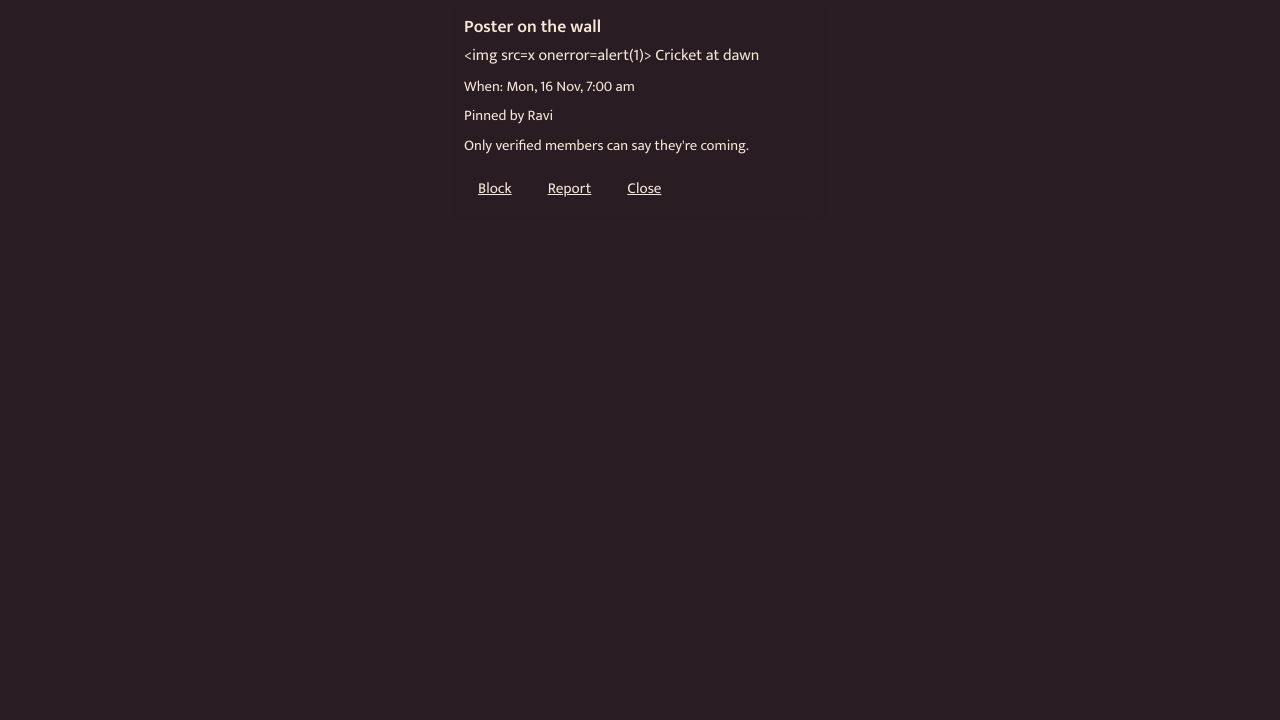
it: PosterCard › blocks first, then opens the report about the poster
The image size is (1280, 720).
Later steps or results of the test are not shown.
Click the button "Block" at {"x": 495, "y": 188}, box [464,166,526,210]
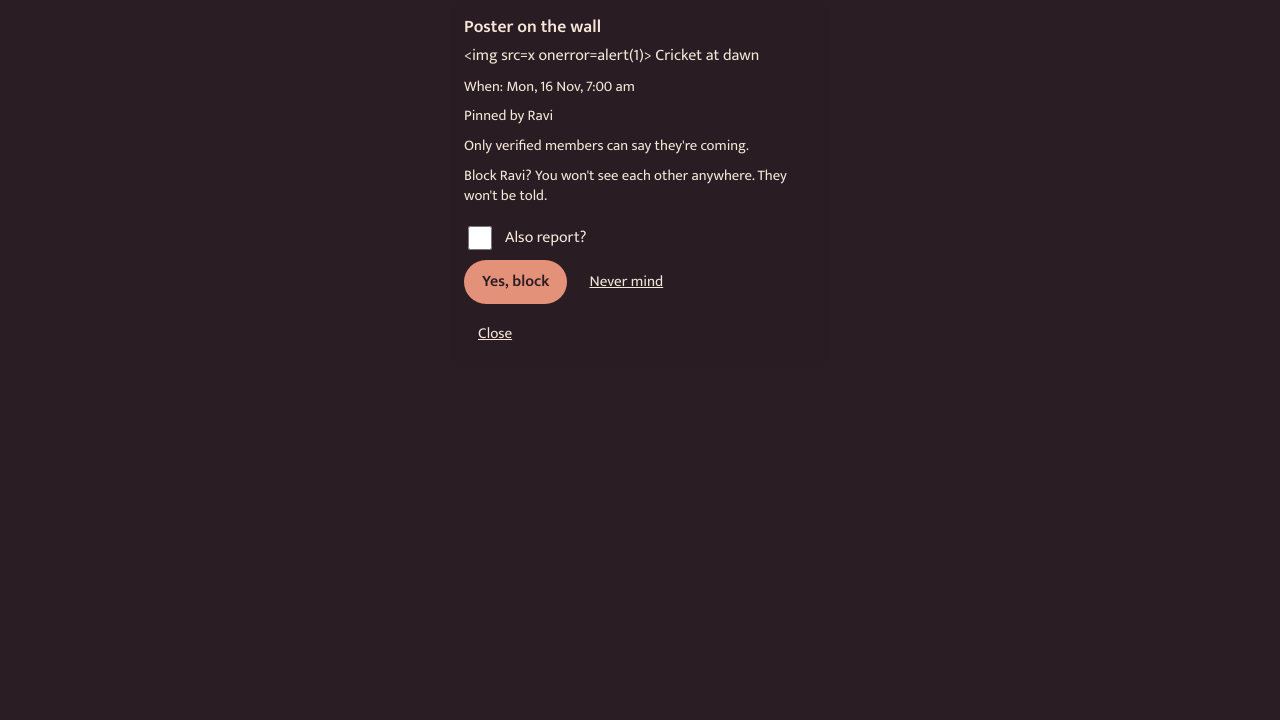
expect the dialog shows "Block Ravi?": met, box [464,163,787,208]
